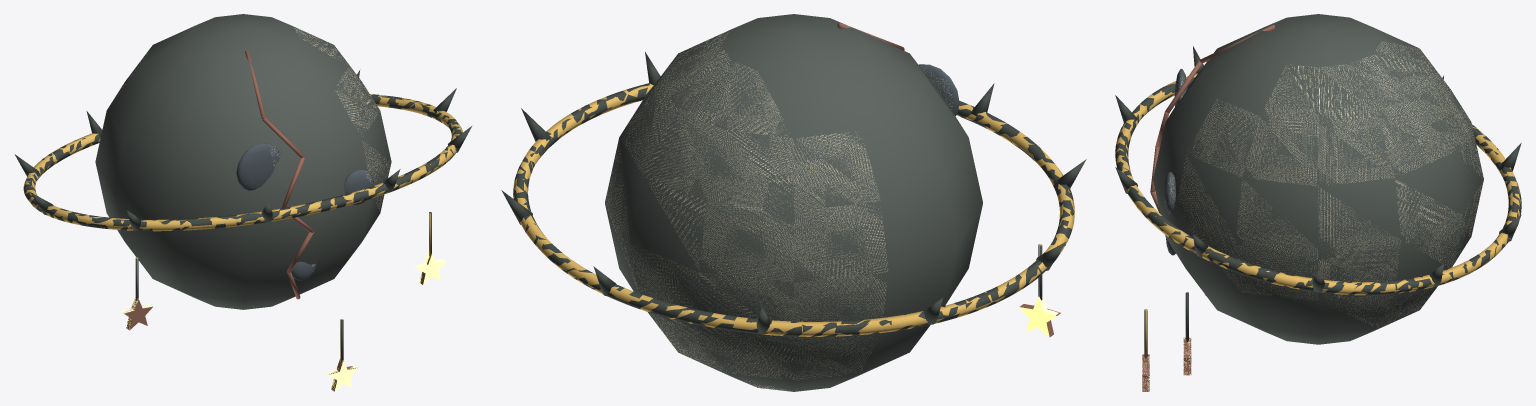
The model's file is fairytale-environment.glb.
3 views of the same model, side by side, from view 1: azimuth 30°, elevation 25°; view 2: azimuth 150°, elevation 25°; view 3: azimuth 270°, elevation 25° (orthographic). The views are drawn at different scales.
Parts seen in each view (by area): view 1: orbit-back, orbit-front; view 2: orbit-back, orbit-front; view 3: orbit-back, orbit-front.
Boxes of the visible parts, x1,y1,x2,y2 form: orbit-back: [14, 14, 471, 391]; orbit-front: [23, 28, 462, 391]; orbit-back: [501, 14, 1086, 391]; orbit-front: [513, 31, 1074, 391]; orbit-back: [1115, 14, 1521, 391]; orbit-front: [1115, 42, 1521, 391].
Size of the model in its own units: 8 by 5.53 by 5.9.
